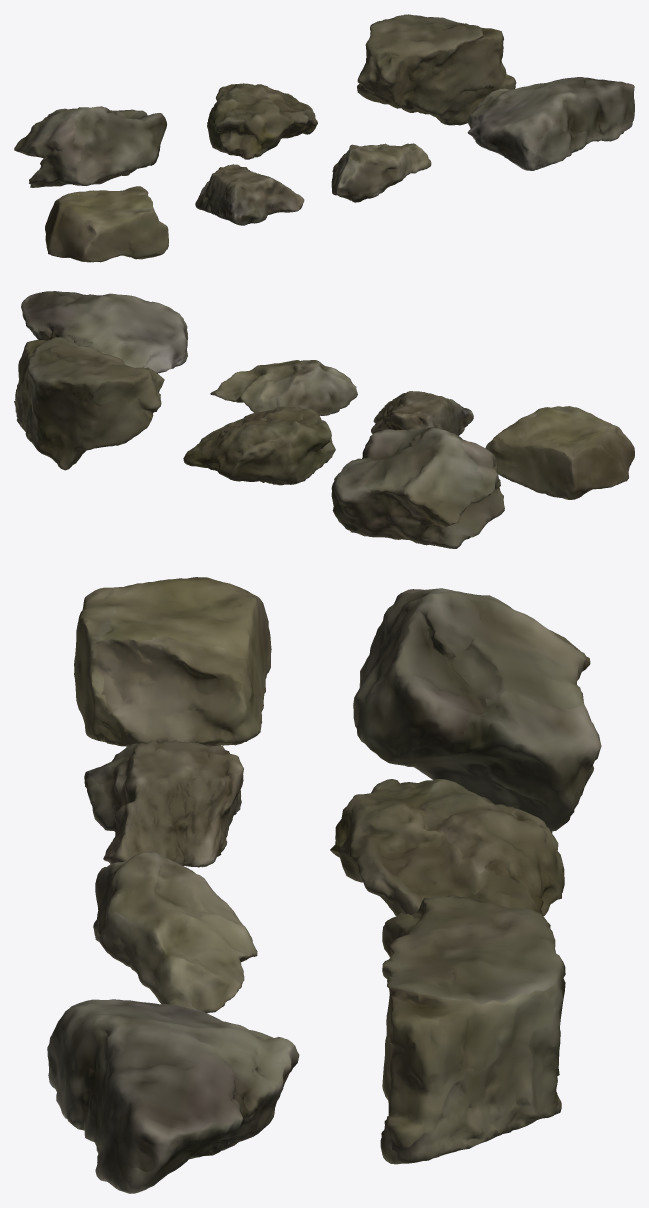
Rendered from rock_moss_set_02.glb.
The picture shows the model from 3 angles, top to bottom: view 1: azimuth 30°, elevation 25°; view 2: azimuth 150°, elevation 25°; view 3: azimuth 270°, elevation 25°; orthographic projection. The views are drawn at different scales.
Visible parts, largest first — view 1: rock_moss_set_02_rock13, rock_moss_set_02_rock10, rock_moss_set_02_rock11, rock_moss_set_02_rock07, rock_moss_set_02_rock12, rock_moss_set_02_rock08, rock_moss_set_02_rock09; view 2: rock_moss_set_02_rock11, rock_moss_set_02_rock13, rock_moss_set_02_rock07, rock_moss_set_02_rock10, rock_moss_set_02_rock12, rock_moss_set_02_rock09, rock_moss_set_02_rock08; view 3: rock_moss_set_02_rock13, rock_moss_set_02_rock11, rock_moss_set_02_rock10, rock_moss_set_02_rock07, rock_moss_set_02_rock12, rock_moss_set_02_rock09, rock_moss_set_02_rock08.
Part boxes in pixels (x1=…): rock_moss_set_02_rock13: x1=357, y1=14, x2=516, y2=125; rock_moss_set_02_rock10: x1=467, y1=77, x2=634, y2=170; rock_moss_set_02_rock11: x1=14, y1=106, x2=166, y2=187; rock_moss_set_02_rock07: x1=45, y1=186, x2=168, y2=262; rock_moss_set_02_rock12: x1=207, y1=83, x2=317, y2=159; rock_moss_set_02_rock08: x1=195, y1=164, x2=304, y2=225; rock_moss_set_02_rock09: x1=331, y1=143, x2=431, y2=202; rock_moss_set_02_rock11: x1=331, y1=427, x2=504, y2=548; rock_moss_set_02_rock13: x1=14, y1=337, x2=164, y2=470; rock_moss_set_02_rock07: x1=485, y1=406, x2=634, y2=499; rock_moss_set_02_rock10: x1=21, y1=291, x2=187, y2=373; rock_moss_set_02_rock12: x1=183, y1=406, x2=335, y2=485; rock_moss_set_02_rock09: x1=210, y1=360, x2=357, y2=415; rock_moss_set_02_rock08: x1=371, y1=391, x2=473, y2=435; rock_moss_set_02_rock13: x1=380, y1=895, x2=565, y2=1164; rock_moss_set_02_rock11: x1=353, y1=588, x2=601, y2=833; rock_moss_set_02_rock10: x1=47, y1=999, x2=299, y2=1193; rock_moss_set_02_rock07: x1=74, y1=577, x2=271, y2=746; rock_moss_set_02_rock12: x1=330, y1=779, x2=564, y2=927; rock_moss_set_02_rock09: x1=93, y1=851, x2=257, y2=1013; rock_moss_set_02_rock08: x1=84, y1=741, x2=243, y2=867.
Size of the model in its own units: 8.28 by 1.37 by 3.41.
1 material, 1 textured.
